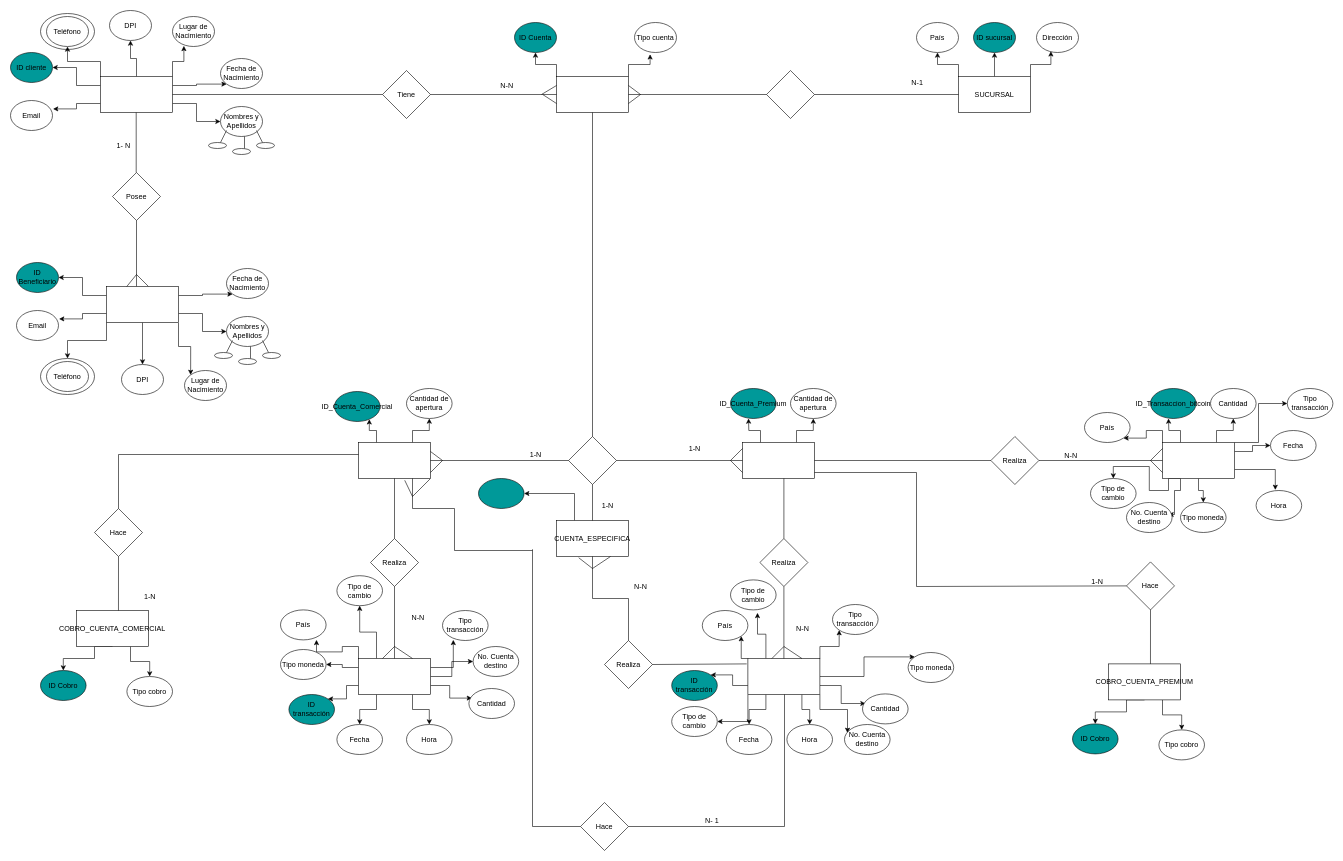
The diagram is 1343 pixels wide and 861 high, and some of its shapes have lost their labels. The centre of each missing label's shape, as x and y in pixels:
Apertura: the point at 790,94
BENEFICIARIO: the point at 142,304
CLIENTE: the point at 136,94
Conforma: the point at 592,460
CUENTA: the point at 592,94
CUENTA_COMERCIAL: the point at 394,460
CUENTA_PREMIUM: the point at 778,460
ID_Cuenta_Especifica: the point at 501,493
TRANSACCION_BITCOIN: the point at 1198,460
TRANSACCION_TIPOA: the point at 394,676
TRANSACCION_TIPOB: the point at 783,676
